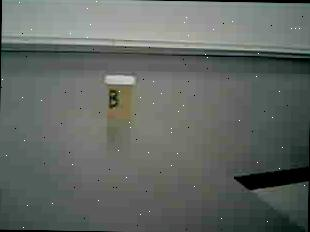Bottle B: (98, 70, 142, 124)
